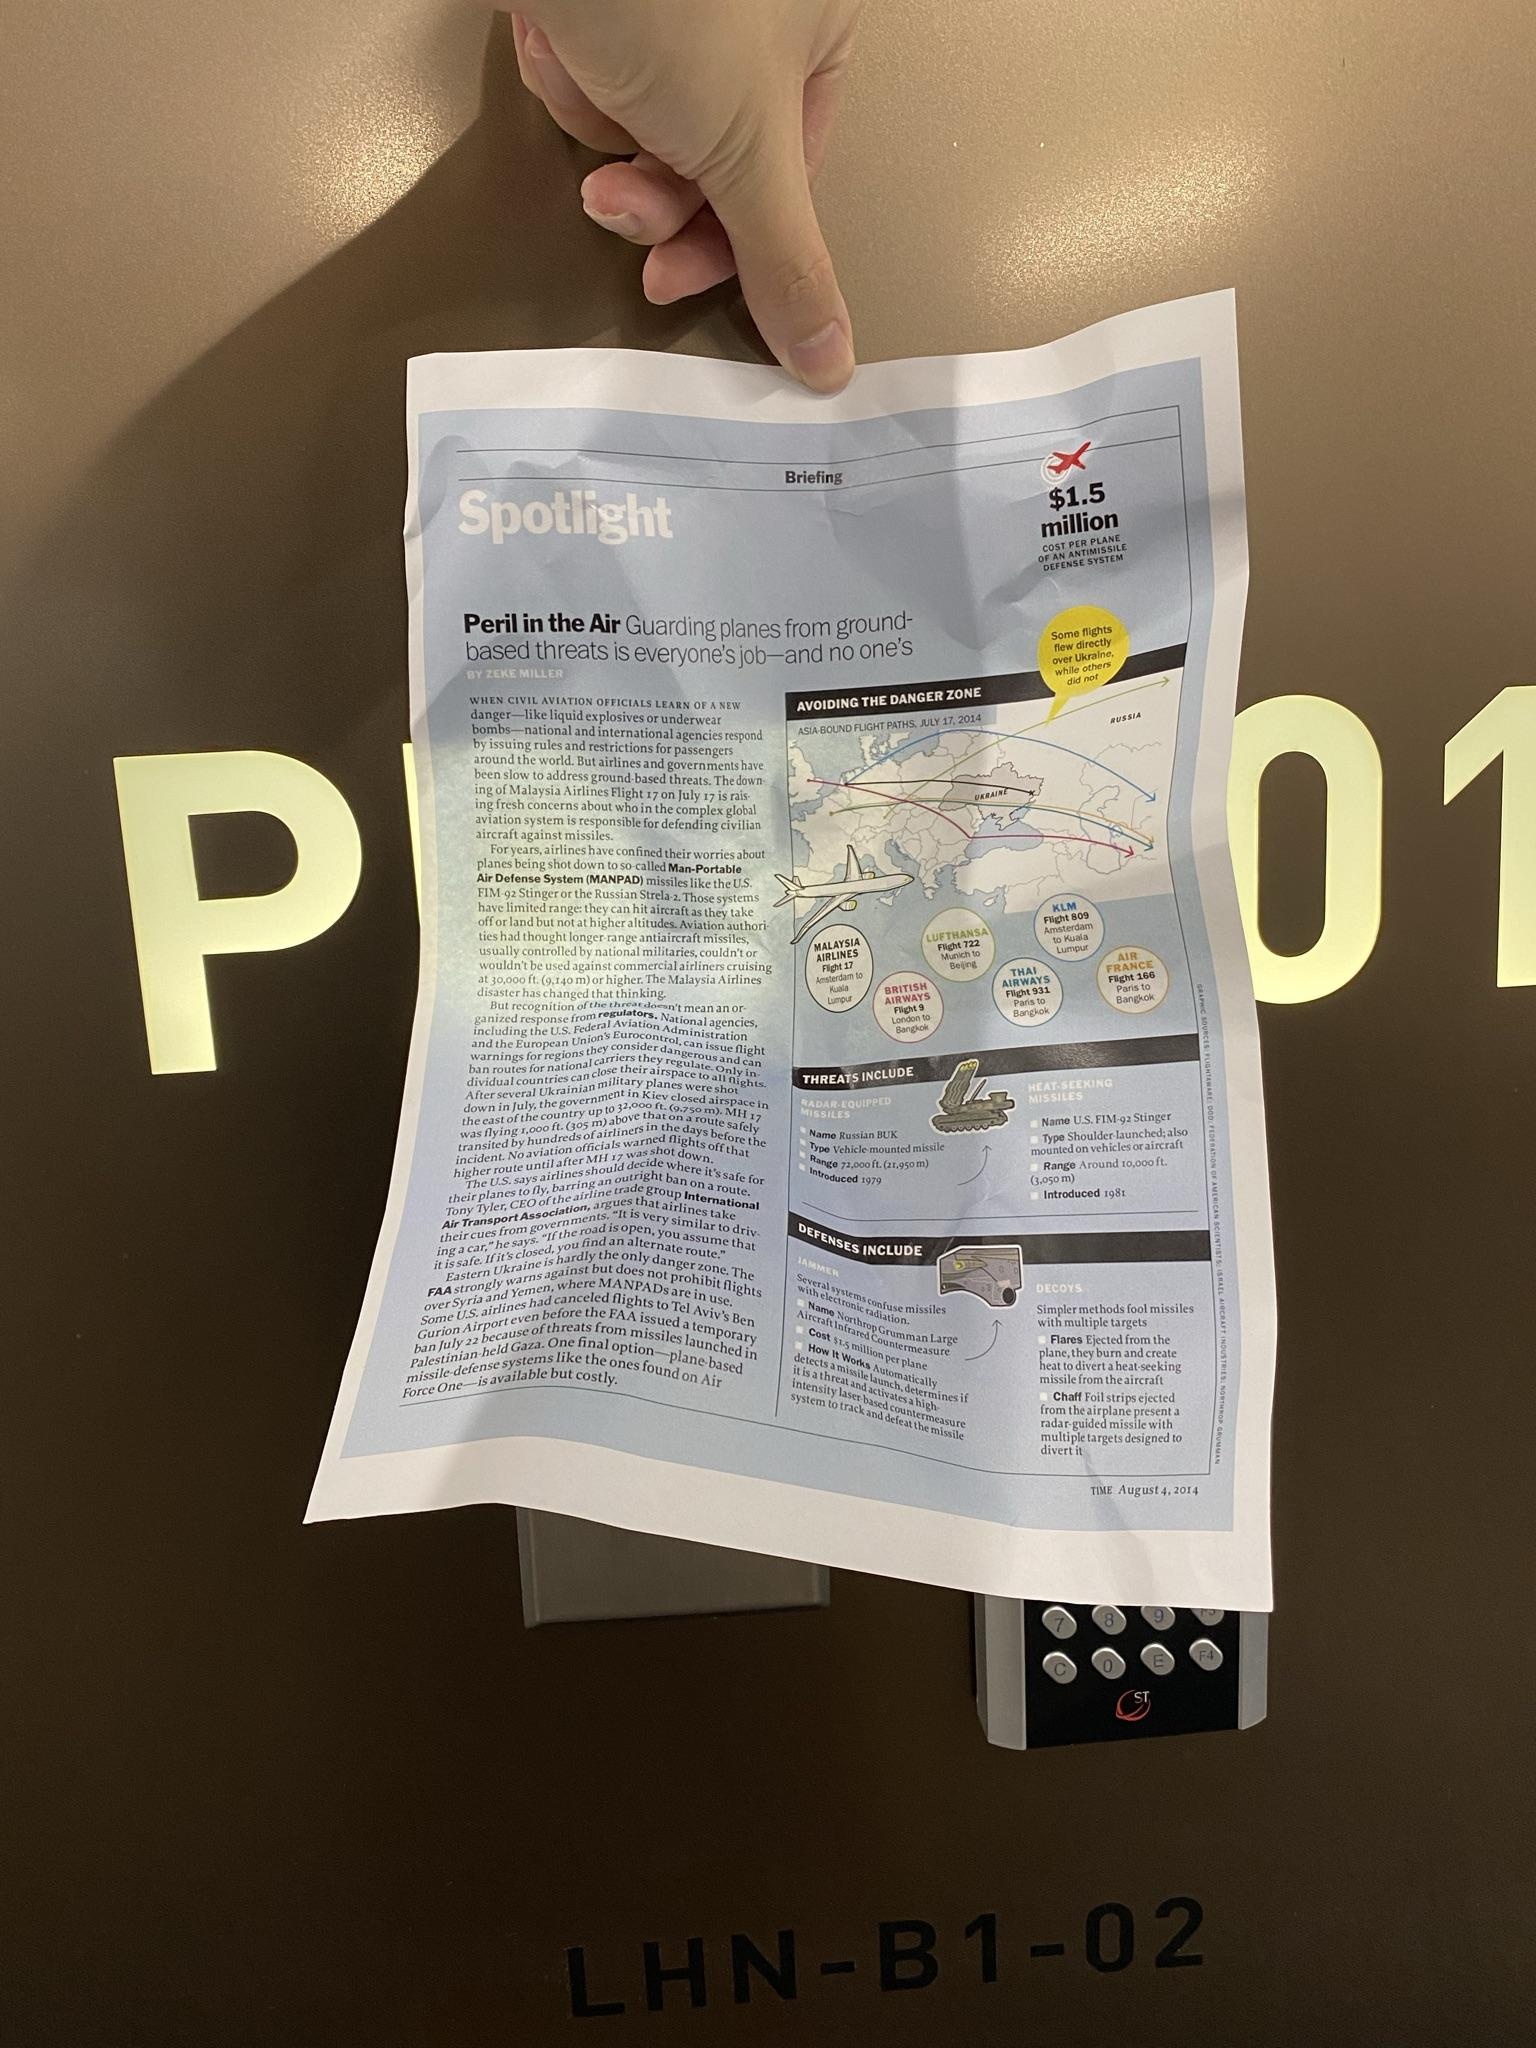paper: (134, 184, 1352, 1674)
